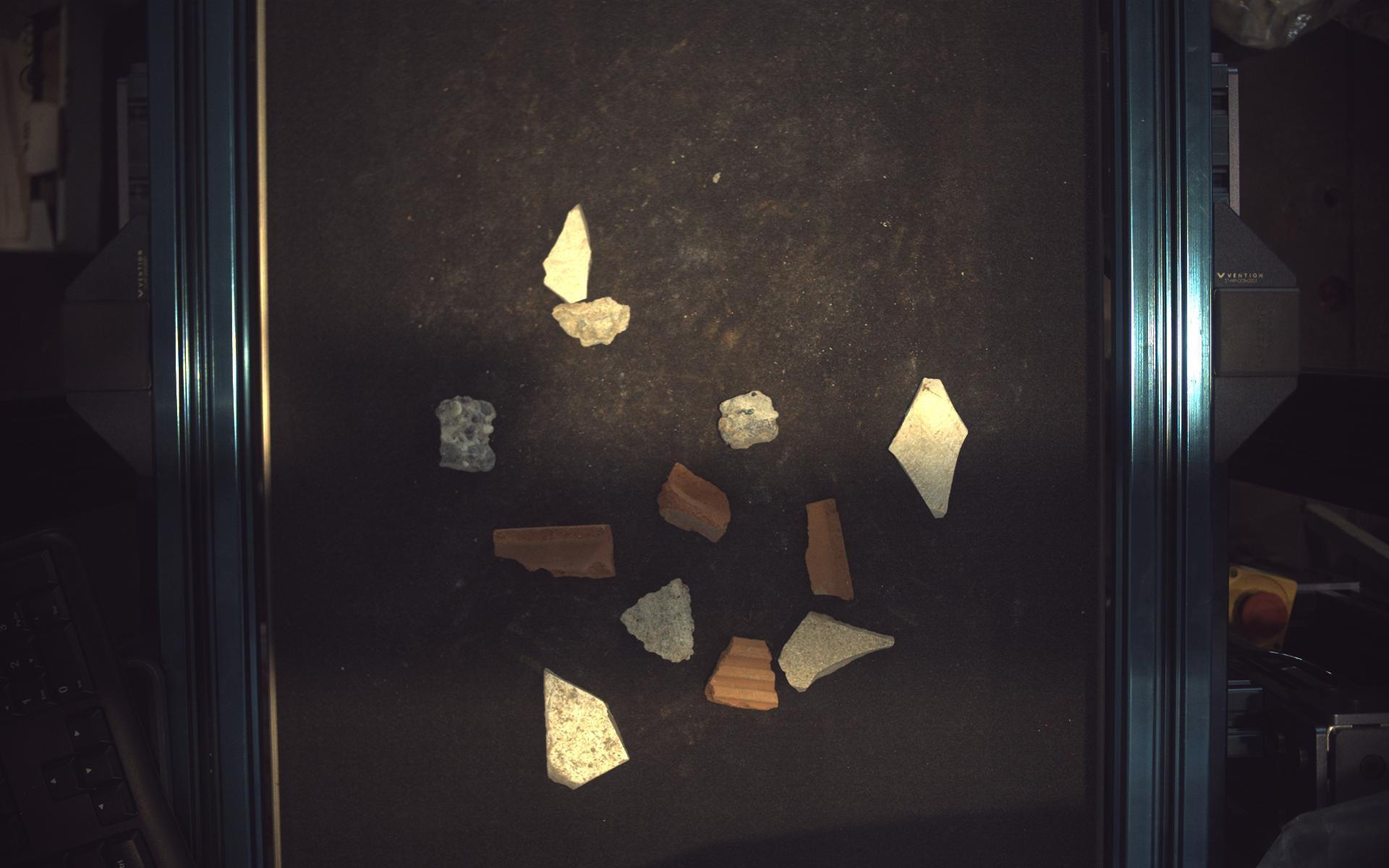brick: (493, 525, 616, 579), (659, 463, 731, 543), (707, 637, 780, 711), (807, 498, 855, 601)
concrete: (621, 579, 695, 663), (436, 396, 496, 472), (553, 297, 631, 346), (719, 390, 780, 449)
tile: (891, 378, 970, 519), (544, 670, 629, 791), (781, 613, 896, 693), (543, 203, 592, 302)
